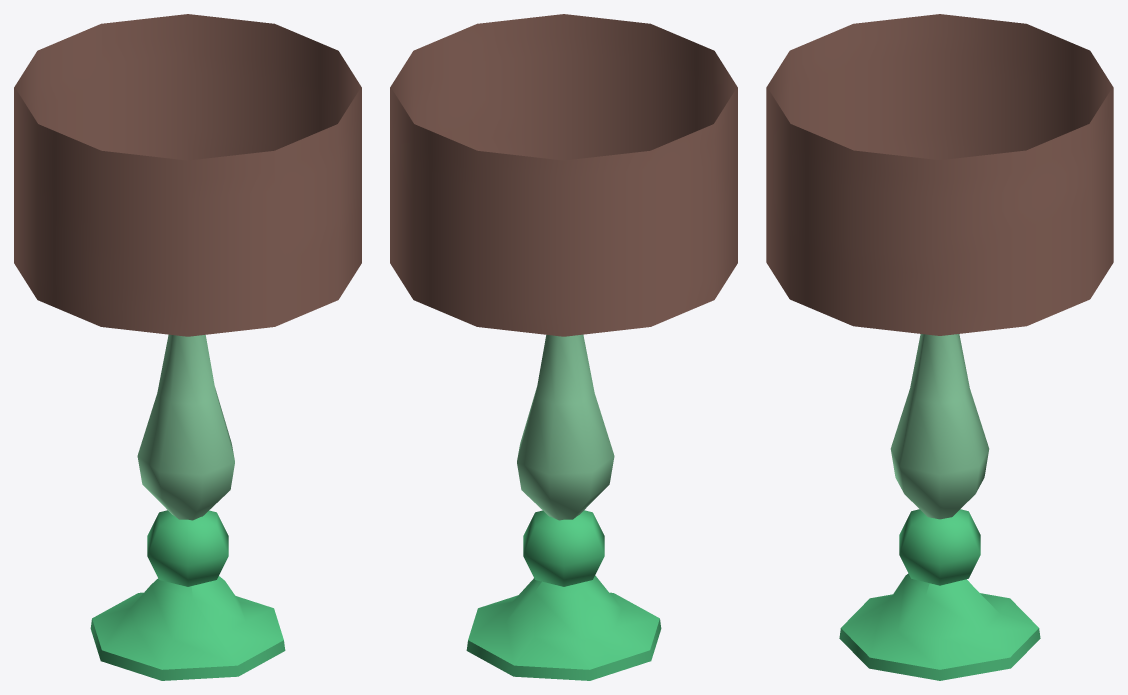
Rendered from lamp_003.glb.
The picture shows the model from 3 angles, left to right: view 1: azimuth 30°, elevation 25°; view 2: azimuth 150°, elevation 25°; view 3: azimuth 270°, elevation 25°; orthographic projection.
Visible parts, largest first — view 1: lamp_003; view 2: lamp_003; view 3: lamp_003.
Boxes of the visible parts, x1,y1,x2,y2 form: lamp_003: (14, 14, 361, 680); lamp_003: (390, 14, 737, 680); lamp_003: (766, 14, 1113, 680).
Bounding box in the file's own units: 0.3947 × 0.6916 × 0.3947.
Materials: 1 (1 with a texture image).
